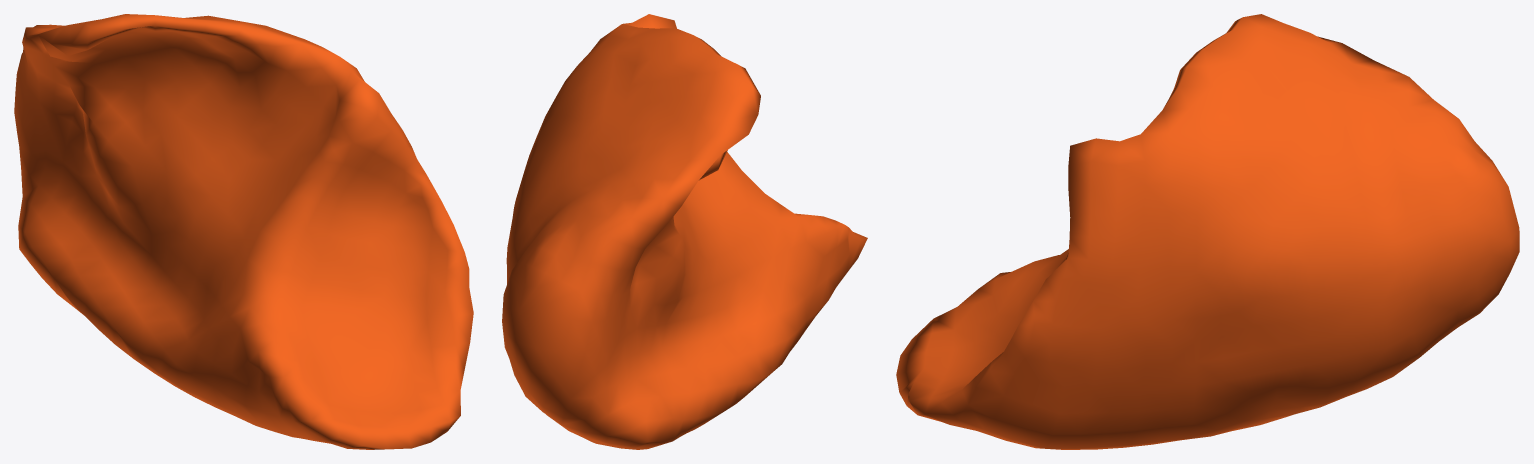
Rendered from Pleura_Left.FBX.
3 renders of one model, left to right at view 1: azimuth 30°, elevation 25°; view 2: azimuth 150°, elevation 25°; view 3: azimuth 270°, elevation 25°, orthographic. The views are drawn at different scales.
Parts seen in each view (by area): view 1: pleura_Left-Snapshot; view 2: pleura_Left-Snapshot; view 3: pleura_Left-Snapshot.
Boxes of the visible parts, bbox=[...] form: pleura_Left-Snapshot: bbox=[14, 14, 473, 449]; pleura_Left-Snapshot: bbox=[502, 14, 867, 449]; pleura_Left-Snapshot: bbox=[896, 14, 1519, 449].
Bounding box in the file's own units: 139 × 184 × 283.
